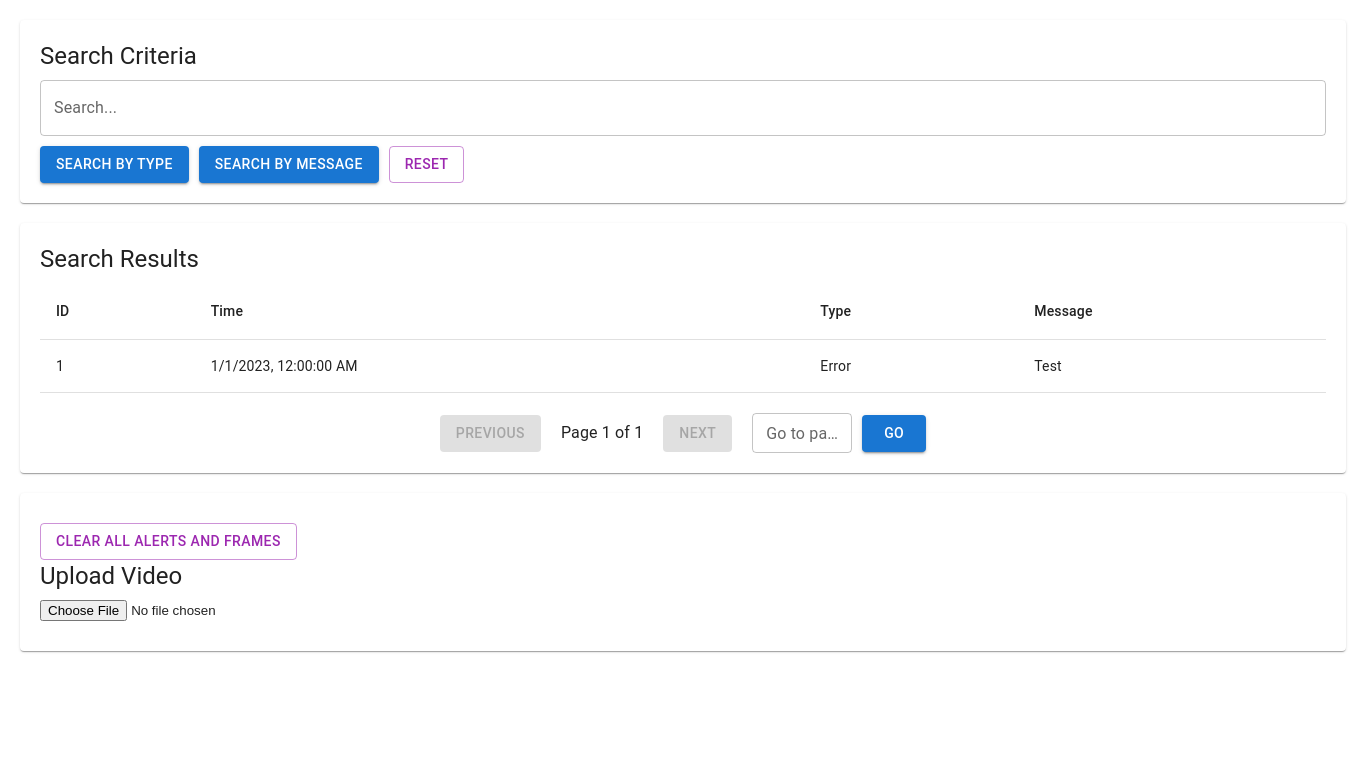
clicking table row opens dialog
Expected: the text "1" is shown, [40,340,195,393]
Click the row "1 1/1/2023, 12:00:00 AM Error Test": coordinates (683, 366) [40,340,1326,393]
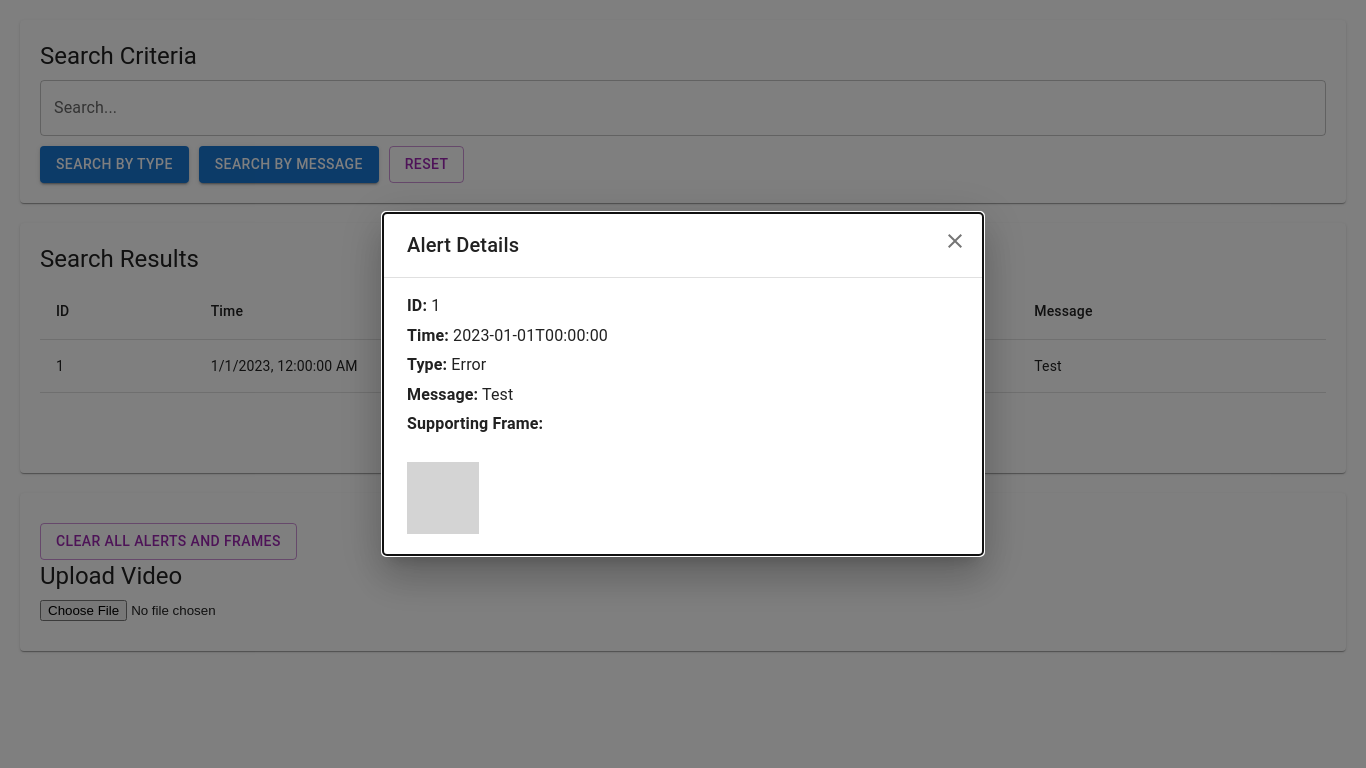
Expected: the dialog shows "Test", [482,385,513,404]
Expected: the dialog shows "Error", [451,355,486,374]
